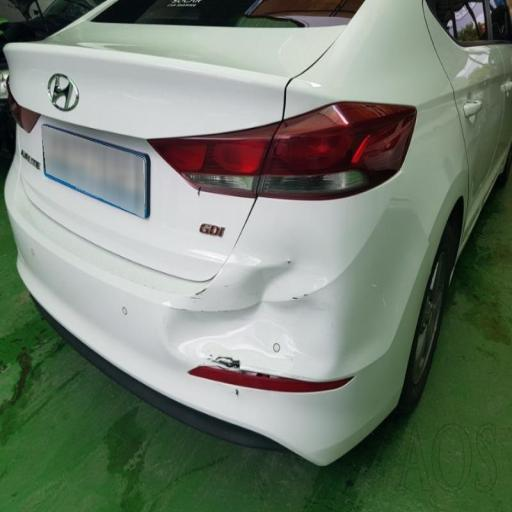dent: (160, 274, 353, 410)
